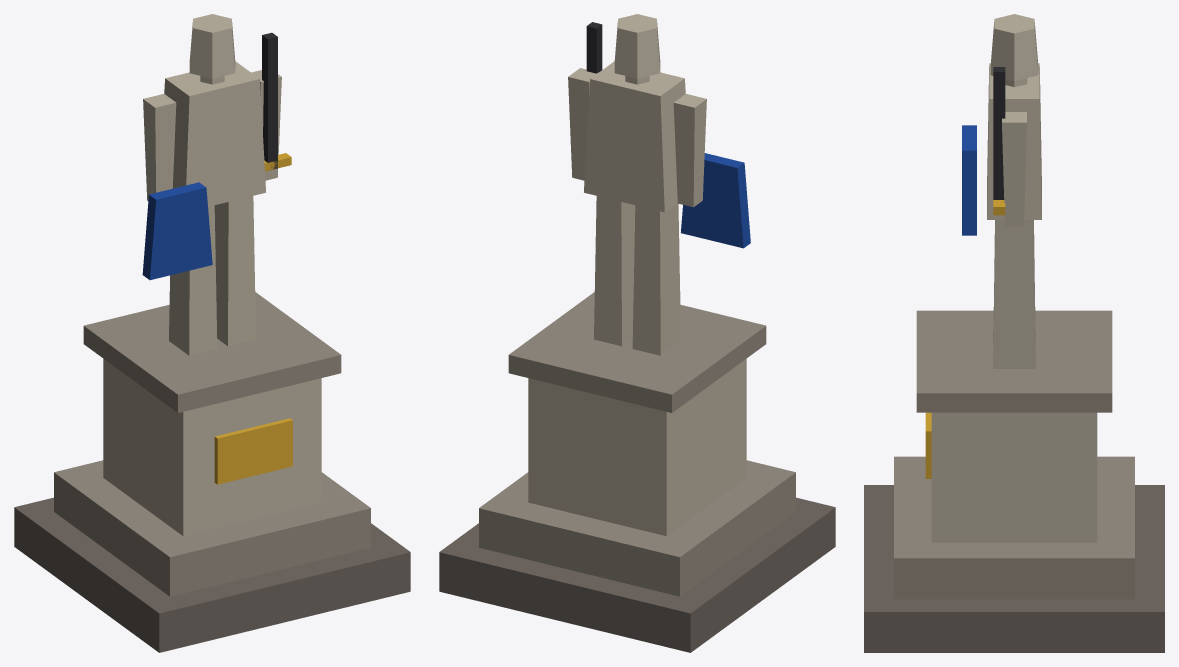
The model's file is statue_hero.fbx.
3 renders of one model, left to right at view 1: azimuth 30°, elevation 25°; view 2: azimuth 150°, elevation 25°; view 3: azimuth 270°, elevation 25°, orthographic. The views are drawn at different scales.
Visible parts, largest first — view 1: statue_hero; view 2: statue_hero; view 3: statue_hero.
Boxes of the visible parts, box(x1,y1,x2,y2) form: statue_hero: box(14, 14, 410, 652); statue_hero: box(439, 14, 835, 652); statue_hero: box(864, 14, 1164, 652).
Bounding box in the file's own units: 2 × 4.15 × 2.
